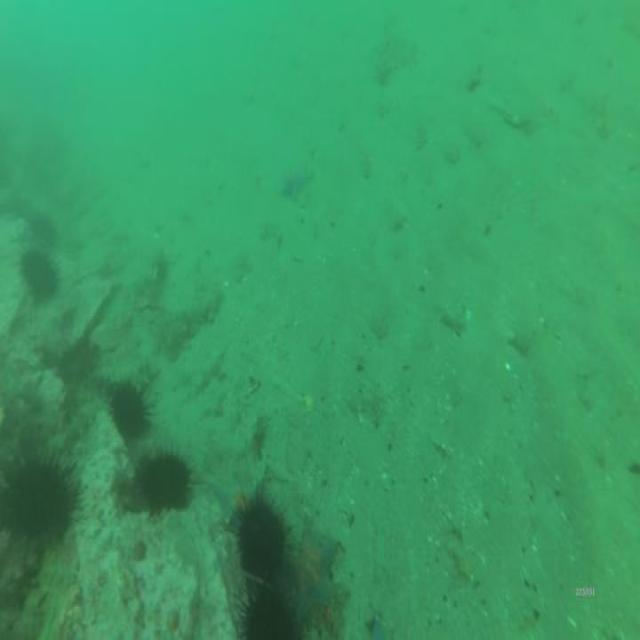echinus: (15, 458, 72, 531), (242, 503, 282, 575), (137, 457, 187, 510), (245, 591, 290, 640), (108, 381, 146, 439), (54, 337, 94, 379), (23, 251, 57, 297)
starfish: (292, 531, 335, 619), (283, 160, 309, 200)
